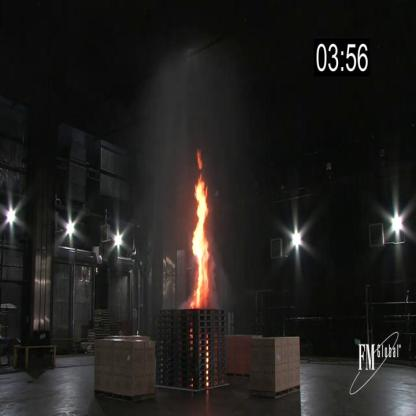fire: (190, 149, 212, 316)
